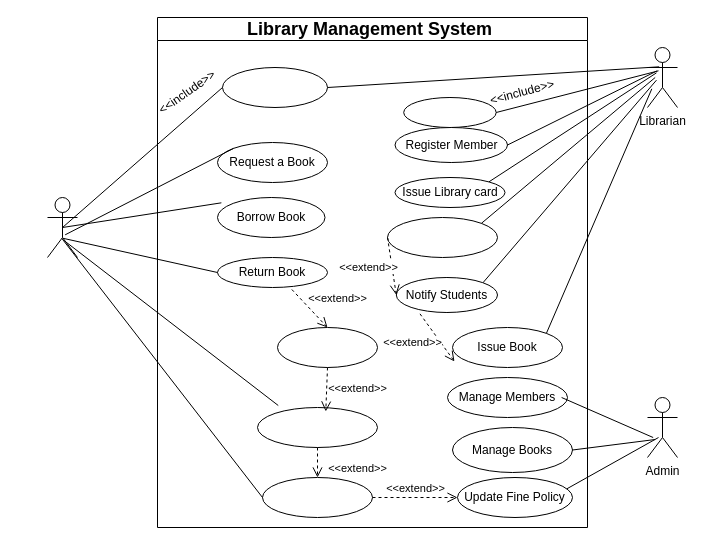
Image size: 703x545. Some labels were removed from this diagram. Here are the shapes that lost their labels. From the top down, the box of each, then its label:
(222, 66, 328, 108): Search Book
(403, 96, 496, 128): Login / Logout
(46, 196, 78, 258): Student / Faculty
(386, 216, 498, 258): Check Availability
(276, 326, 378, 368): Calculate Fine
(256, 406, 378, 448): View Fine
(262, 476, 372, 518): Pays Fine
